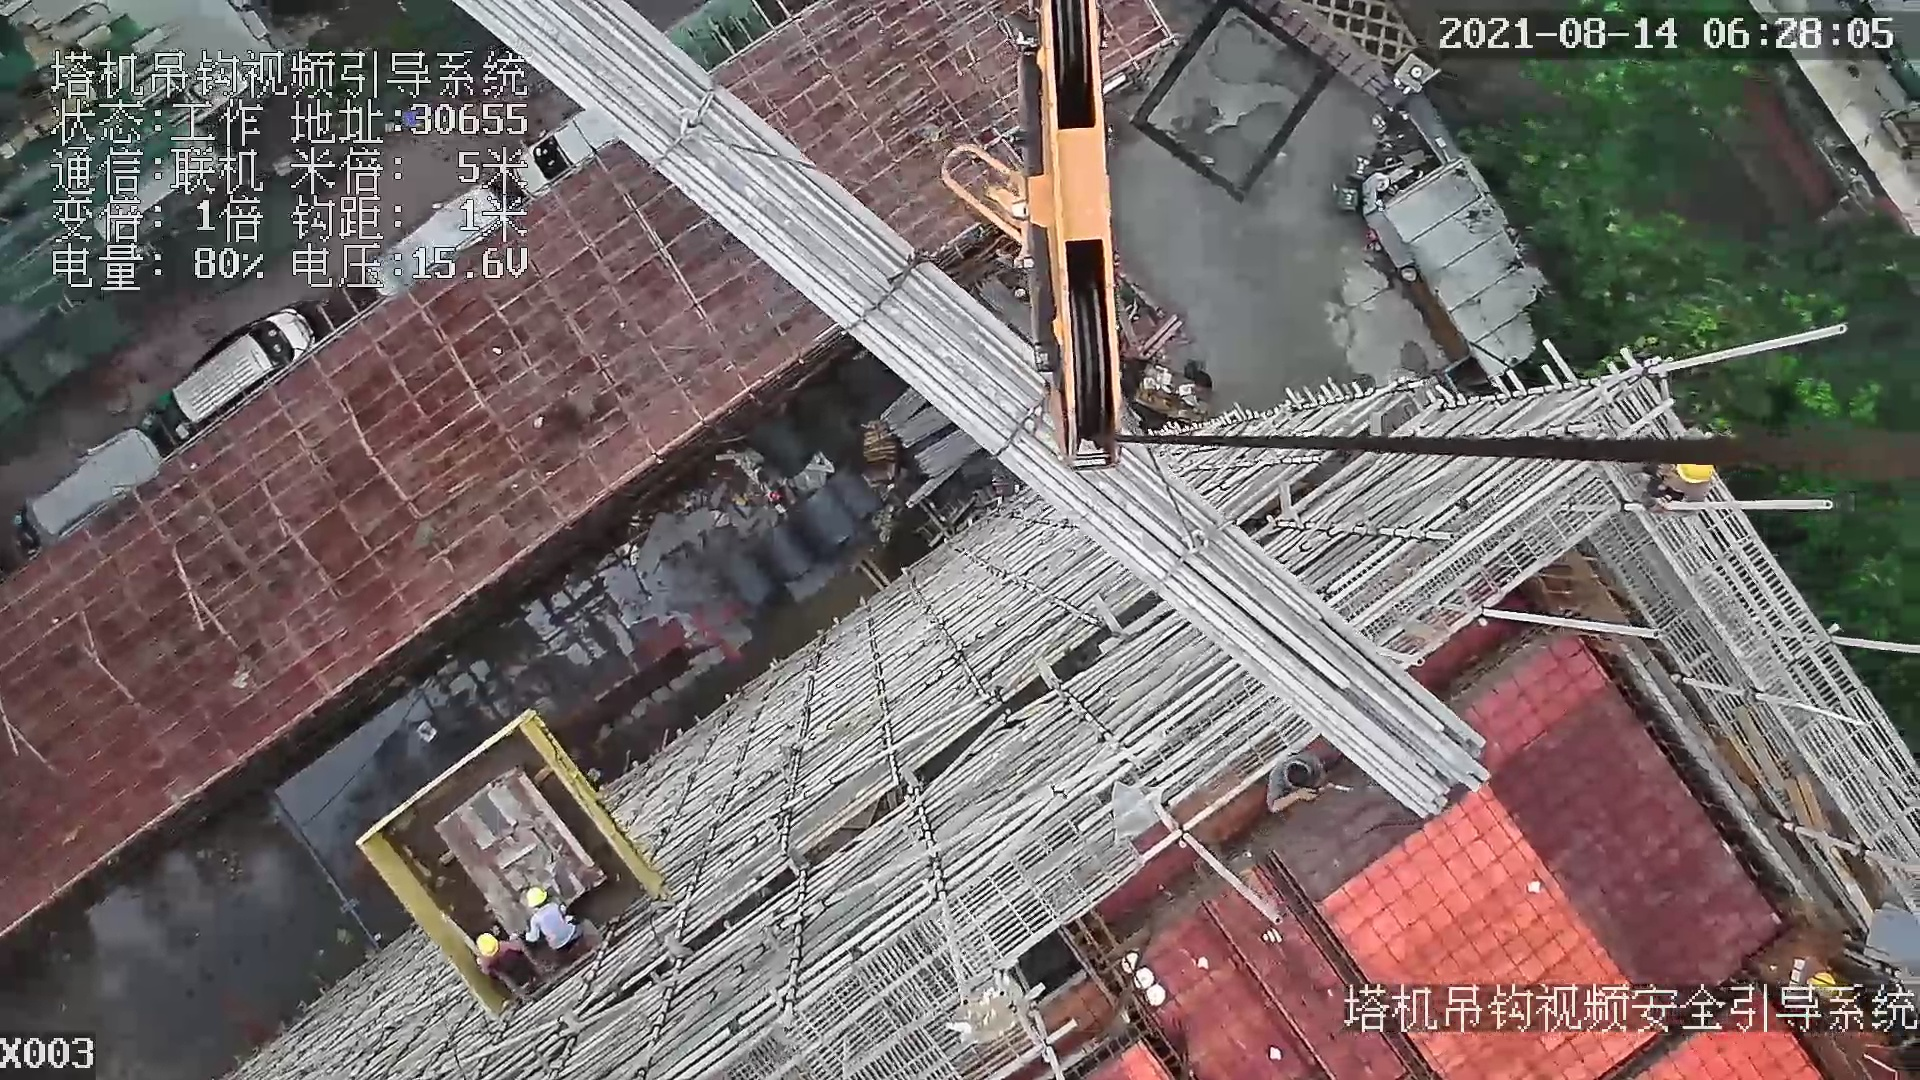helmet: (477, 920, 503, 955), (521, 884, 552, 910)
person: (1629, 463, 1719, 516), (514, 886, 582, 953), (467, 935, 528, 987)
